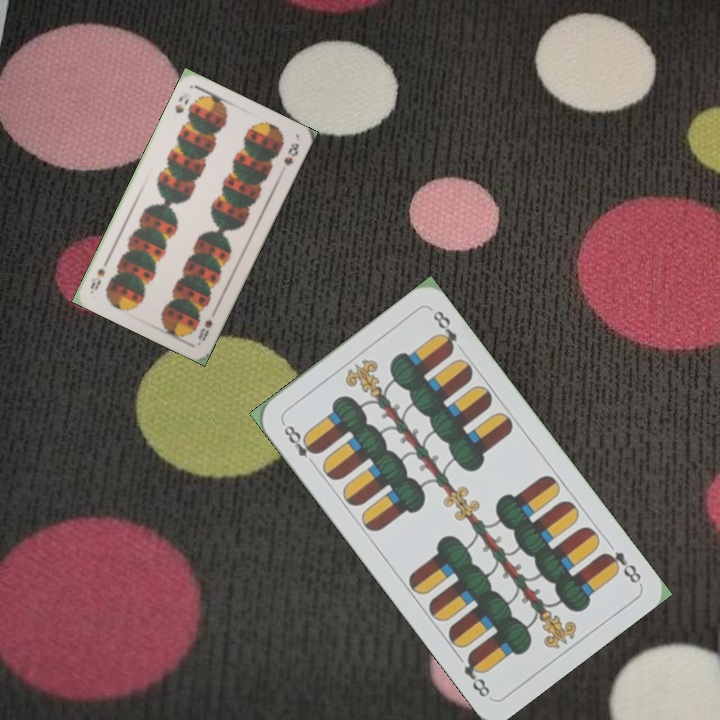E8: (278, 418, 321, 469), (598, 547, 644, 586)
S8: (194, 315, 215, 343), (171, 92, 192, 116)
